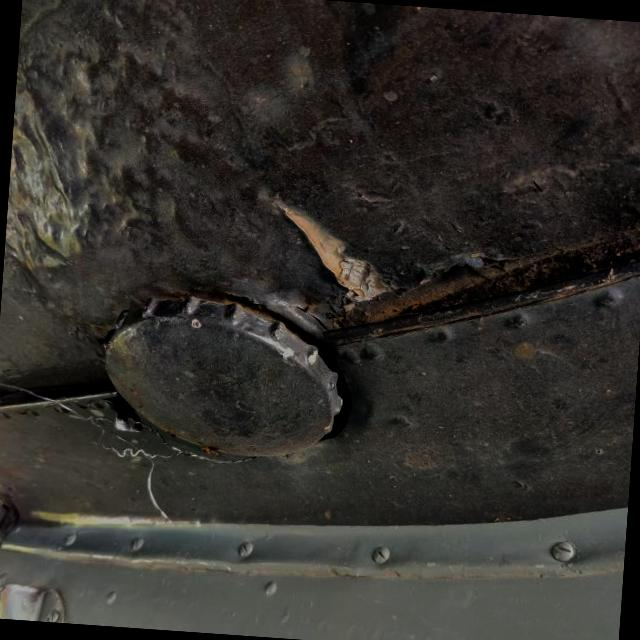paint-off: (260, 190, 400, 309)
